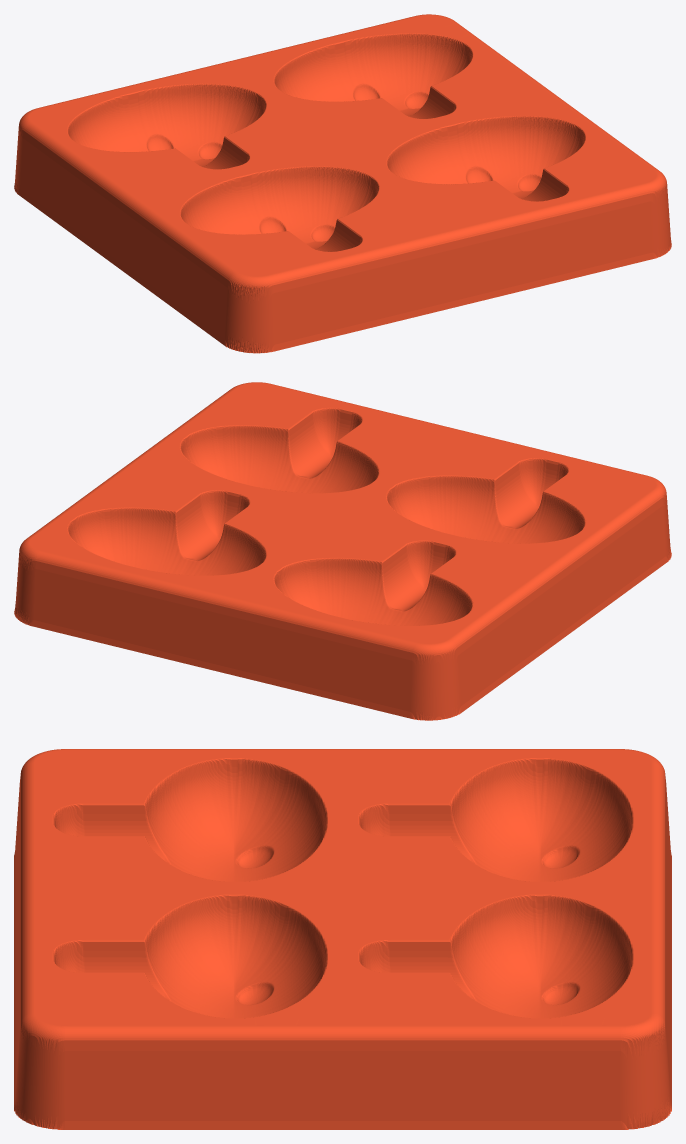
The model's file is mold.glb.
3 views of the same model, one above another, from view 1: azimuth 30°, elevation 25°; view 2: azimuth 150°, elevation 25°; view 3: azimuth 270°, elevation 25° (orthographic). The views are drawn at different scales.
Visible parts, largest first — view 1: geometry_0; view 2: geometry_0; view 3: geometry_0.
Part boxes in pixels (bbox=[...]): geometry_0: bbox=[14, 14, 671, 353]; geometry_0: bbox=[14, 382, 671, 720]; geometry_0: bbox=[14, 749, 671, 1129].
Size of the model in its own units: 0.1218 by 0.0185 by 0.1157.
